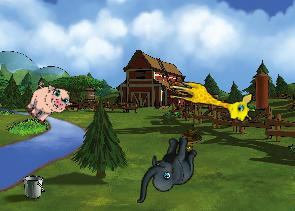elephant: (136, 133, 197, 207)
giraffe: (164, 78, 258, 124)
pig: (19, 75, 75, 131)
